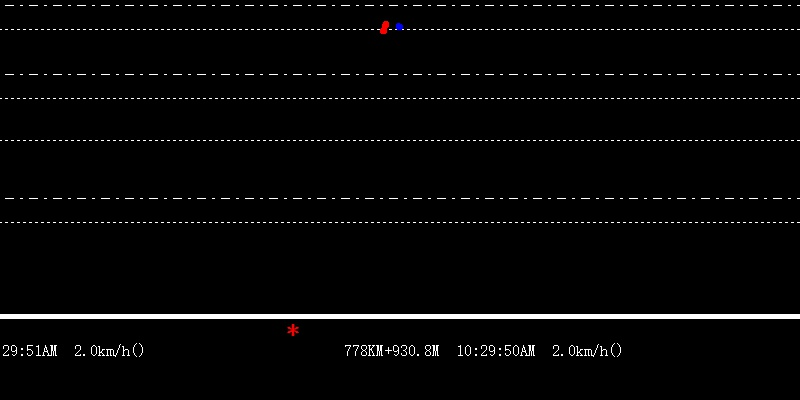face_1: (378, 21, 387, 38), (394, 21, 406, 32)
star: (285, 321, 301, 339)
